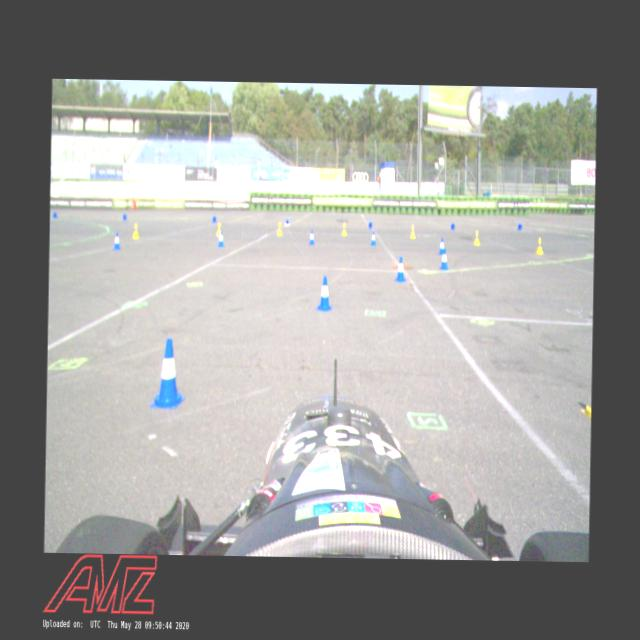blue_cone: (150, 338, 187, 408), (316, 274, 334, 311), (394, 256, 407, 282), (437, 248, 449, 270), (112, 231, 122, 250), (438, 236, 446, 254), (217, 230, 224, 247), (369, 230, 376, 246), (308, 230, 314, 246)
yellow_cone: (535, 237, 544, 256), (131, 222, 139, 240), (472, 229, 480, 245), (408, 224, 416, 238), (341, 222, 347, 236), (276, 222, 282, 236), (216, 222, 222, 236)
